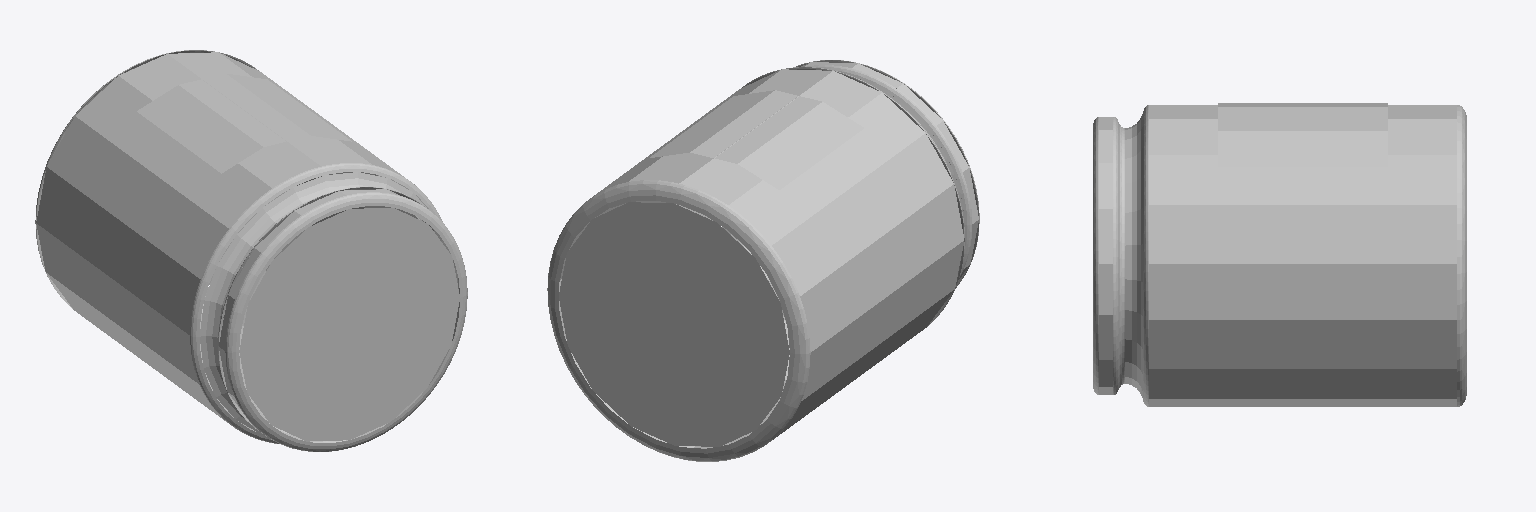
3 views of the same model, side by side, from view 1: azimuth 30°, elevation 25°; view 2: azimuth 150°, elevation 25°; view 3: azimuth 270°, elevation 25° (orthographic).
Parts seen in each view (by area): view 1: ShapeIndexedFaceSet.005_ShapeIndexedFaceSet, ShapeIndexedFaceSet.001_ShapeIndexedFaceSet.002, ShapeIndexedFaceSet.002_ShapeIndexedFaceSet.003, ShapeIndexedFaceSet_ShapeIndexedFaceSet.001, ShapeIndexedFaceSet.004_ShapeIndexedFaceSet.005; view 2: ShapeIndexedFaceSet.005_ShapeIndexedFaceSet, ShapeIndexedFaceSet.003_ShapeIndexedFaceSet.004, ShapeIndexedFaceSet.004_ShapeIndexedFaceSet.005, ShapeIndexedFaceSet_ShapeIndexedFaceSet.001, ShapeIndexedFaceSet.002_ShapeIndexedFaceSet.003; view 3: ShapeIndexedFaceSet.005_ShapeIndexedFaceSet, ShapeIndexedFaceSet.002_ShapeIndexedFaceSet.003, ShapeIndexedFaceSet_ShapeIndexedFaceSet.001, ShapeIndexedFaceSet.004_ShapeIndexedFaceSet.005.
Part boxes in pixels (left/top/right/bottom): ShapeIndexedFaceSet.005_ShapeIndexedFaceSet: left=36, top=52, right=428, bottom=431; ShapeIndexedFaceSet.001_ShapeIndexedFaceSet.002: left=239, top=208, right=459, bottom=441; ShapeIndexedFaceSet.002_ShapeIndexedFaceSet.003: left=190, top=163, right=467, bottom=451; ShapeIndexedFaceSet_ShapeIndexedFaceSet.001: left=137, top=74, right=351, bottom=173; ShapeIndexedFaceSet.004_ShapeIndexedFaceSet.005: left=35, top=50, right=289, bottom=312; ShapeIndexedFaceSet.005_ShapeIndexedFaceSet: left=559, top=69, right=963, bottom=448; ShapeIndexedFaceSet.003_ShapeIndexedFaceSet.004: left=559, top=202, right=789, bottom=446; ShapeIndexedFaceSet.004_ShapeIndexedFaceSet.005: left=547, top=180, right=810, bottom=461; ShapeIndexedFaceSet_ShapeIndexedFaceSet.001: left=650, top=90, right=863, bottom=189; ShapeIndexedFaceSet.002_ShapeIndexedFaceSet.003: left=710, top=60, right=979, bottom=326; ShapeIndexedFaceSet.005_ShapeIndexedFaceSet: left=1149, top=105, right=1456, bottom=406; ShapeIndexedFaceSet.002_ShapeIndexedFaceSet.003: left=1093, top=105, right=1148, bottom=406; ShapeIndexedFaceSet_ShapeIndexedFaceSet.001: left=1218, top=103, right=1387, bottom=166; ShapeIndexedFaceSet.004_ShapeIndexedFaceSet.005: left=1457, top=105, right=1466, bottom=406.
Bounding box in the file's own units: 8.89 × 8.89 × 11.